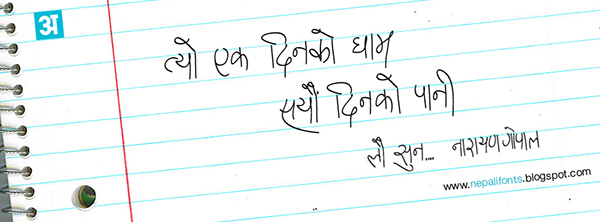text: (325, 74, 403, 125), (261, 25, 336, 74), (453, 125, 542, 155), (278, 82, 322, 136), (412, 70, 459, 116), (158, 35, 202, 82), (350, 27, 395, 65), (210, 43, 250, 77), (393, 144, 425, 172), (365, 135, 388, 171)
